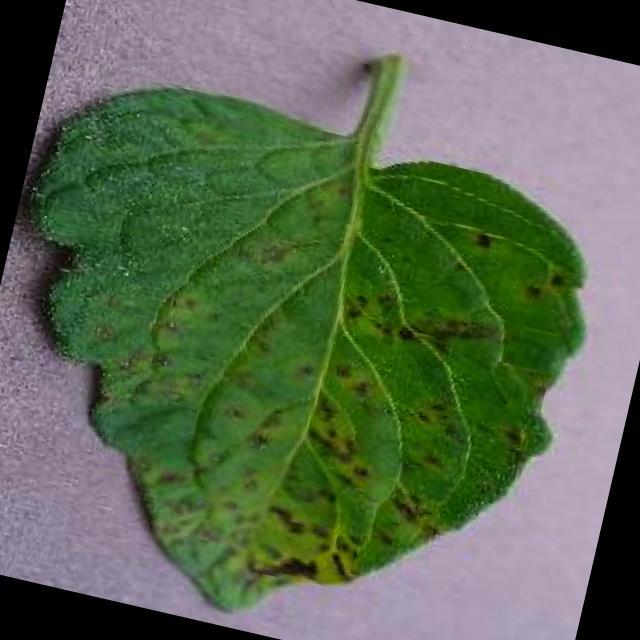Tomato Septoria spot leaf: (0, 57, 619, 640)
